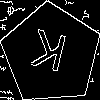K: (26, 29, 69, 82)
